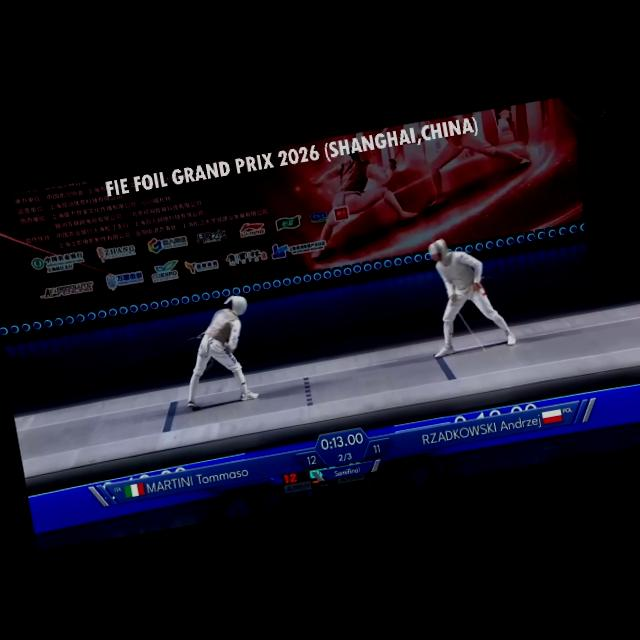blade: (448, 292, 493, 361)
